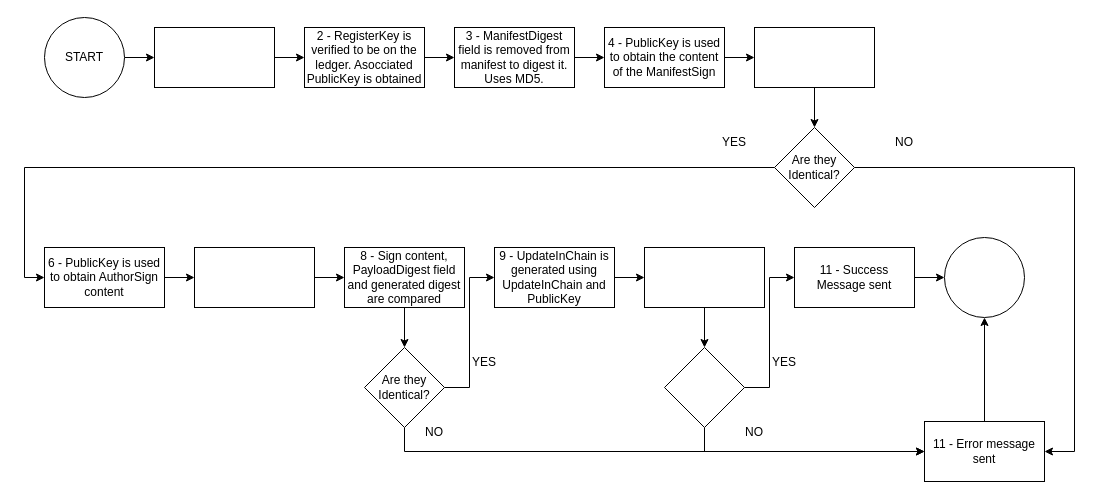
This 1100x499 diagram has some shape labels left out. The centre of each missing label's shape, as x and y in pixels:
1 - Chaincode is called. Call contains UpdateRegister: (214,57)
10 - Transaction is proposed for UpdateInChain: (704,277)
5 - Sign content, ManifestDigest field and generated digest are compared: (814,57)
7 - Payload digest is generated: (254,277)
END: (984,277)
Successful?: (704,387)
